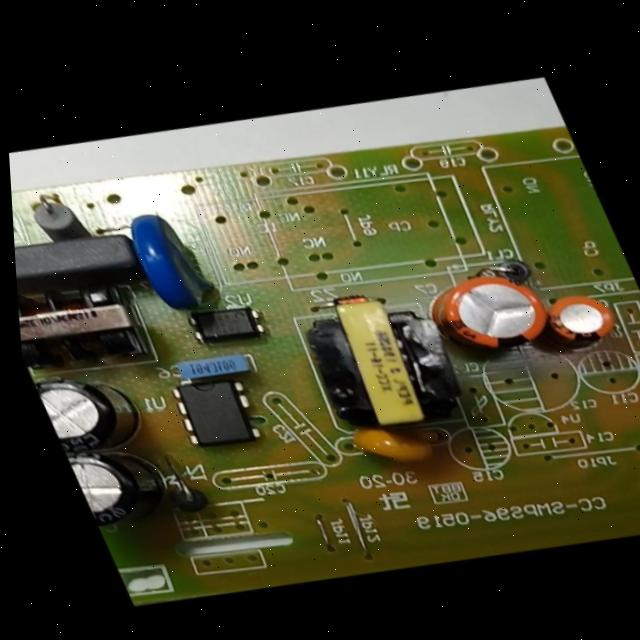Cap1: (414, 254, 566, 373)
Cap2: (524, 282, 630, 361)
Cap3: (32, 361, 161, 462)
Cap4: (63, 432, 191, 539)
MOSFET: (158, 366, 280, 465)
Mov: (112, 201, 227, 323)
Resistor: (20, 187, 94, 246)
Transformer: (279, 272, 488, 448), (16, 263, 167, 389)
